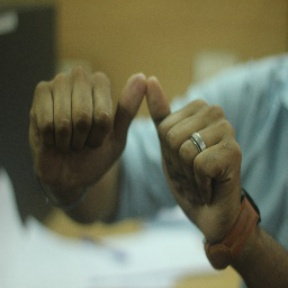A: (62, 63, 208, 190)
